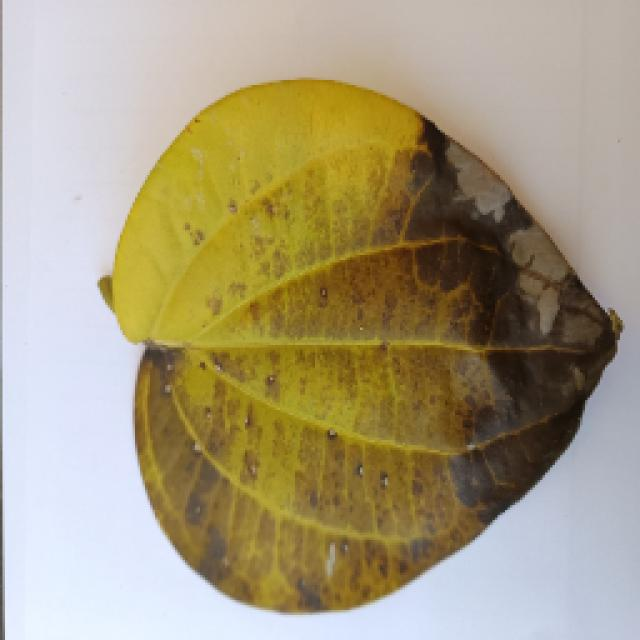slow-decline: (70, 85, 618, 617)
